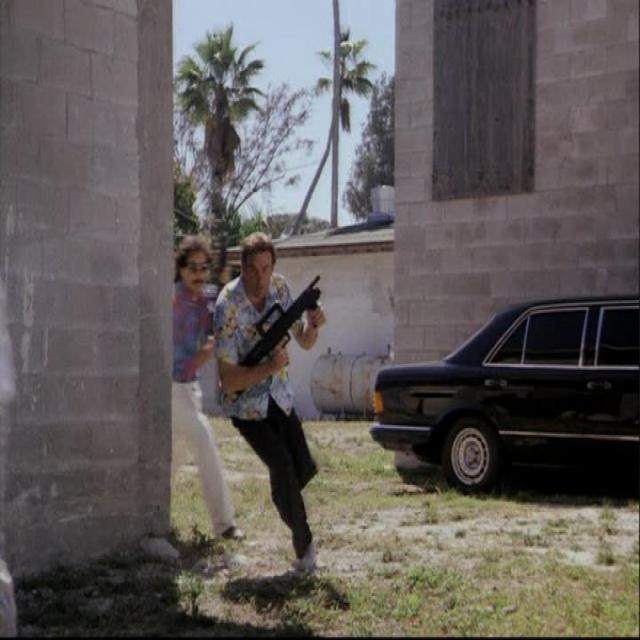rifle: (238, 269, 326, 378)
